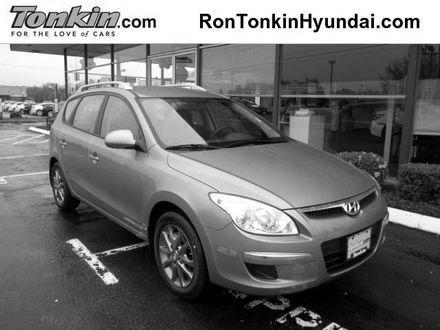car: (48, 81, 392, 305)
